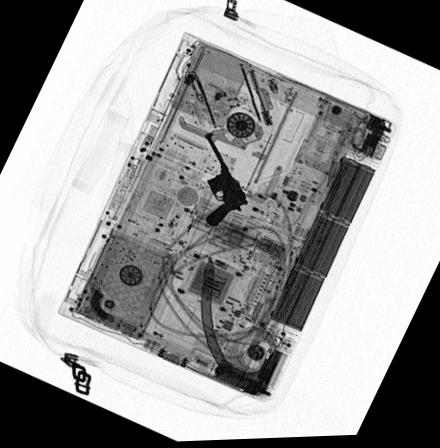Gun: (201, 132, 247, 227)
